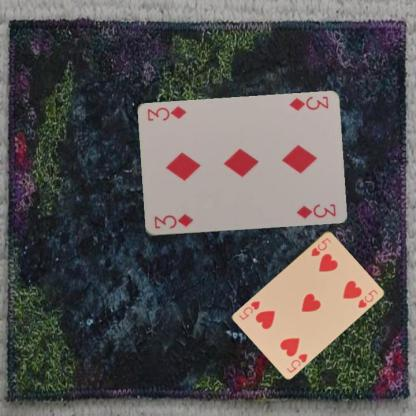3d: (151, 211, 195, 230), (286, 94, 330, 112)
5h: (284, 351, 309, 374), (309, 235, 332, 258)
